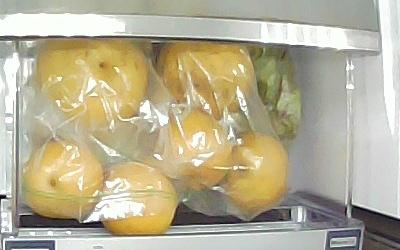pear_vinyl: (38, 38, 146, 126), (159, 42, 256, 110), (24, 140, 101, 219), (102, 160, 176, 235), (168, 110, 234, 189), (224, 130, 288, 205)
